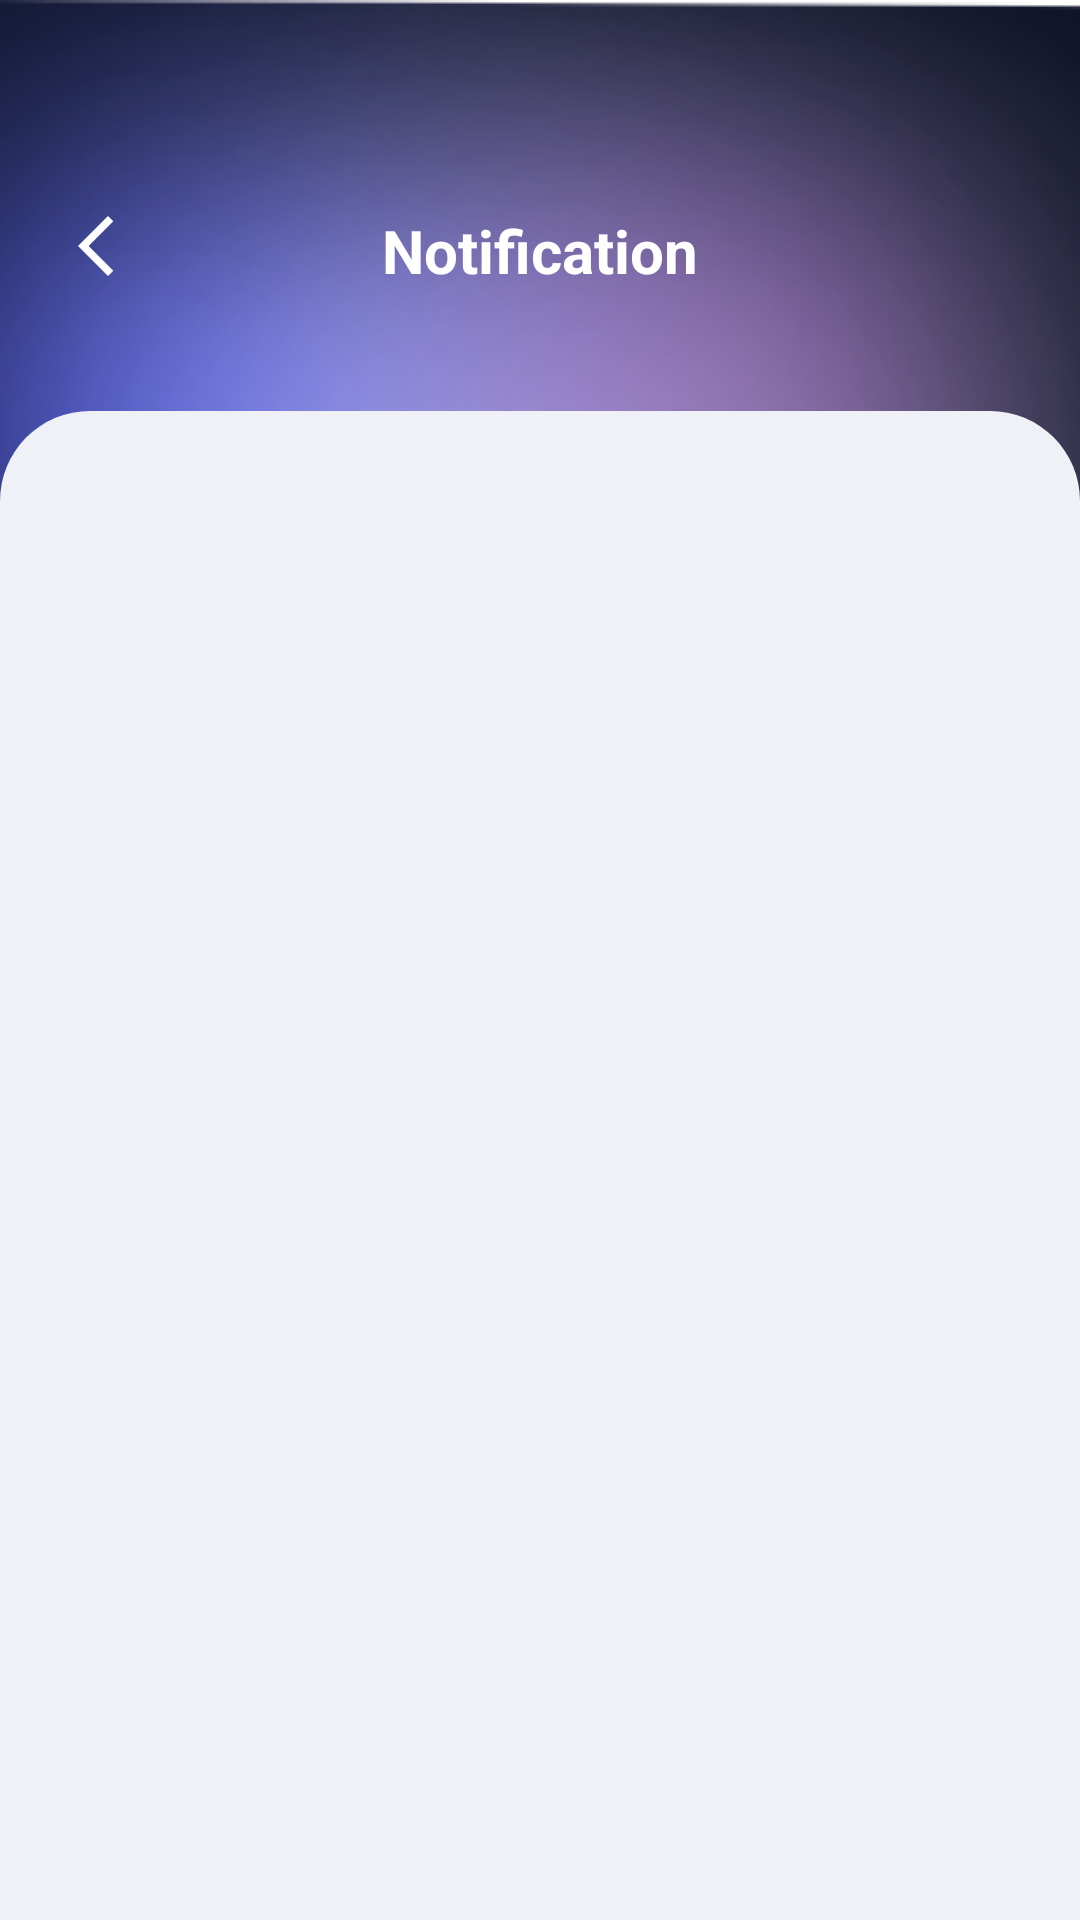

Screen size 1080px×1920px. Icon name, then its box in pixels as (x1, y1, x2, y2):
back: (78, 216, 132, 282)
